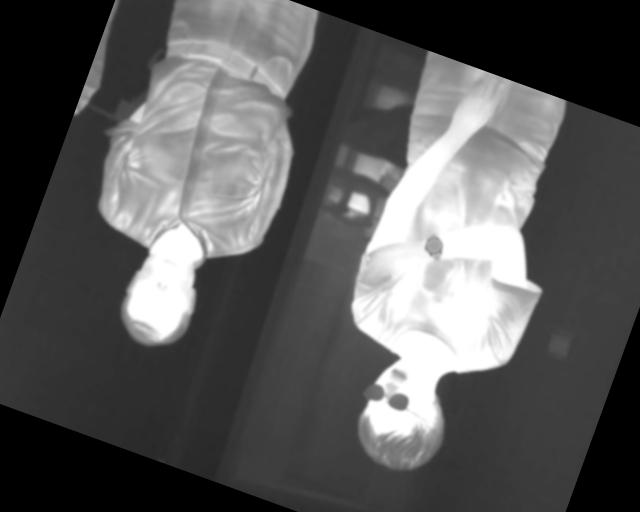face: (343, 347, 465, 484), (107, 232, 213, 359)
